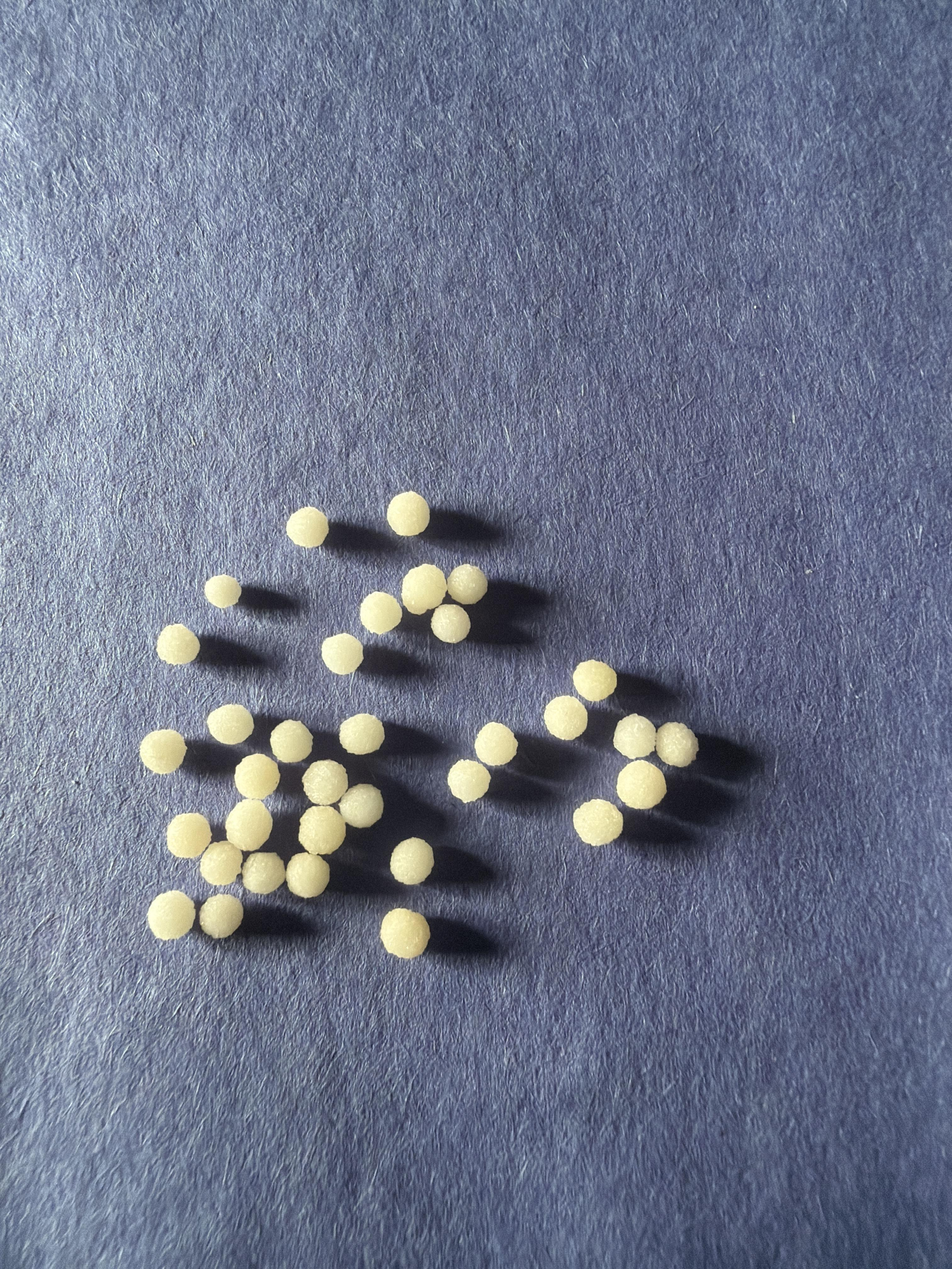pill: (616, 759, 666, 809), (225, 799, 273, 851), (380, 909, 430, 958), (147, 890, 195, 940), (298, 806, 346, 855), (573, 799, 623, 846), (401, 564, 446, 615), (139, 729, 186, 774), (234, 754, 280, 799), (302, 760, 348, 805), (390, 838, 434, 885), (285, 853, 330, 898), (167, 813, 211, 858), (199, 894, 243, 939), (207, 703, 254, 745), (474, 722, 518, 766), (339, 784, 383, 828), (655, 722, 698, 767), (544, 695, 587, 740), (387, 491, 430, 536), (447, 759, 490, 803), (613, 714, 655, 759), (339, 713, 384, 755), (270, 720, 313, 763), (241, 852, 285, 894), (573, 660, 617, 702), (360, 591, 402, 634), (156, 624, 200, 665), (321, 633, 363, 675), (286, 507, 329, 548), (200, 842, 241, 885), (447, 564, 487, 605), (431, 604, 470, 643), (204, 575, 241, 609)
